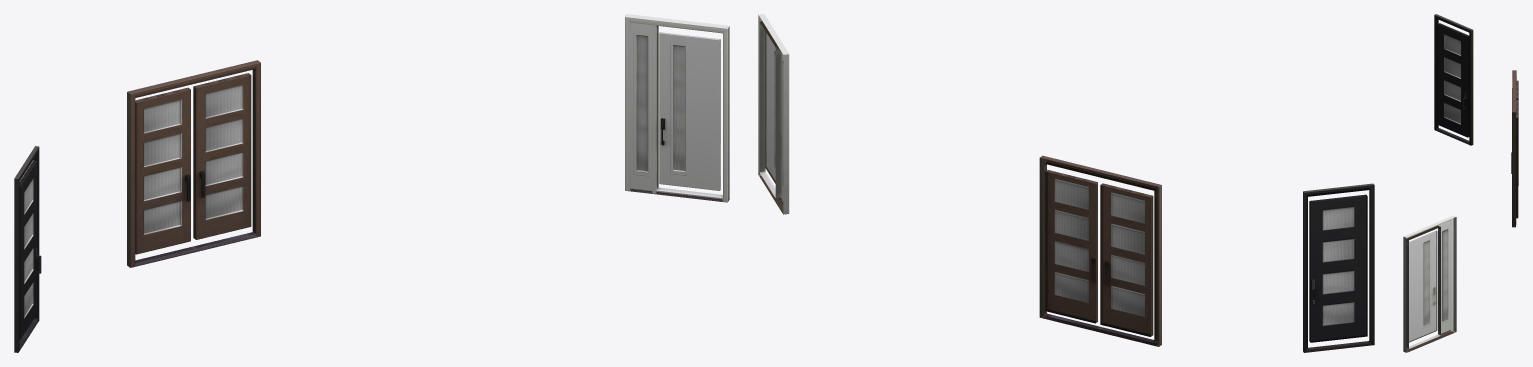
Rendered from door.fbx.
3 views of the same model, side by side, from view 1: azimuth 30°, elevation 25°; view 2: azimuth 150°, elevation 25°; view 3: azimuth 270°, elevation 25° (orthographic). The views are drawn at different scales.
Visible parts, largest first — view 1: polySurface5, polySurface15, polySurface8, polySurface10, polySurface14, polySurface1, polySurface12; view 2: polySurface1, polySurface8, polySurface15, polySurface10, polySurface14, polySurface12, polySurface5; view 3: polySurface10, polySurface1, polySurface5, polySurface12, polySurface14, polySurface15, polySurface8.
Part boxes in pixels (box(x1,y1,x2,y2)): polySurface5: box(659, 32, 720, 190); polySurface15: box(193, 73, 251, 239); polySurface8: box(135, 87, 190, 254); polySurface10: box(625, 14, 729, 202); polySurface14: box(127, 60, 260, 267); polySurface1: box(19, 160, 41, 339); polySurface12: box(14, 146, 39, 352); polySurface1: box(1309, 194, 1367, 342); polySurface8: box(1100, 183, 1153, 336); polySurface15: box(1045, 170, 1097, 323); polySurface10: box(758, 14, 789, 214); polySurface14: box(1039, 155, 1161, 346); polySurface12: box(1303, 183, 1374, 352); polySurface5: box(765, 31, 775, 183); polySurface10: box(1403, 215, 1456, 352); polySurface1: box(1438, 23, 1469, 137); polySurface5: box(1409, 230, 1437, 342); polySurface12: box(1434, 14, 1473, 145); polySurface14: box(1512, 70, 1516, 227); polySurface15: box(1511, 100, 1518, 218); polySurface8: box(1511, 80, 1518, 185).
Size of what is drawn, in the model's own units: 81.16 by 19.51 by 17.64.
Materials: 1 (1 with a texture image).
